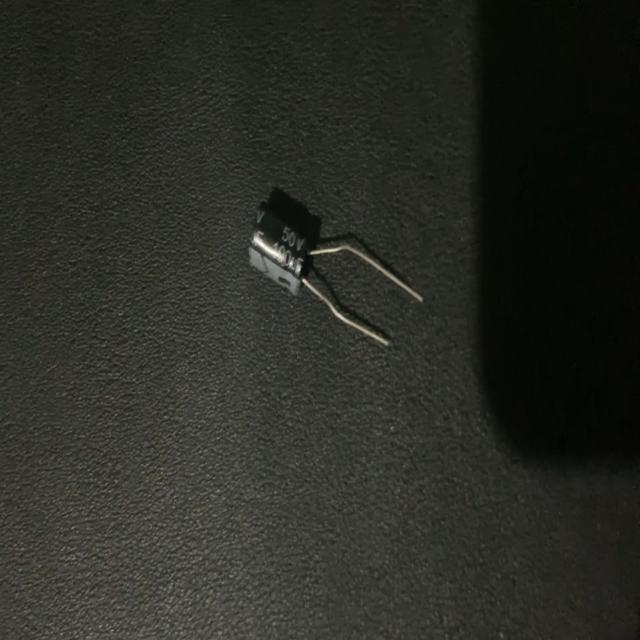capacitor: (246, 194, 428, 356)
